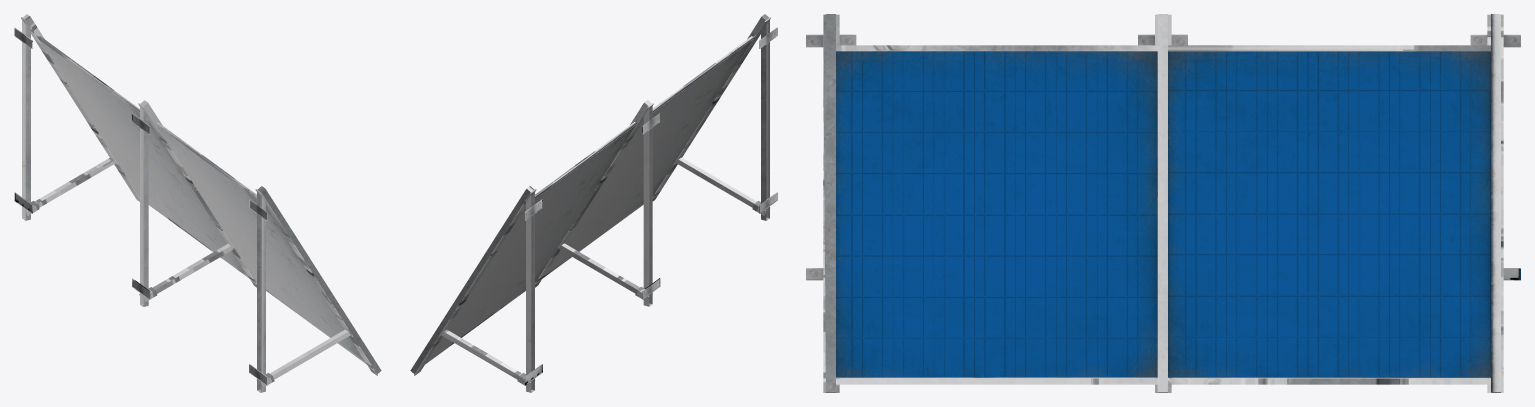
Rendered from S_SolarPanel_01_001.dae.
3 views of the same model, side by side, from view 1: azimuth 30°, elevation 25°; view 2: azimuth 150°, elevation 25°; view 3: azimuth 270°, elevation 25° (orthographic). The views are drawn at different scales.
Parts seen in each view (by area): view 1: S_SolarPanel_01.001; view 2: S_SolarPanel_01.001; view 3: S_SolarPanel_01.001.
Boxes of the visible parts, x1,y1,x2,y2 form: S_SolarPanel_01.001: (14,14,381,392); S_SolarPanel_01.001: (410,14,777,392); S_SolarPanel_01.001: (806,14,1520,392).
Size of the model in its own units: 1.56 by 5.59 by 2.61.
